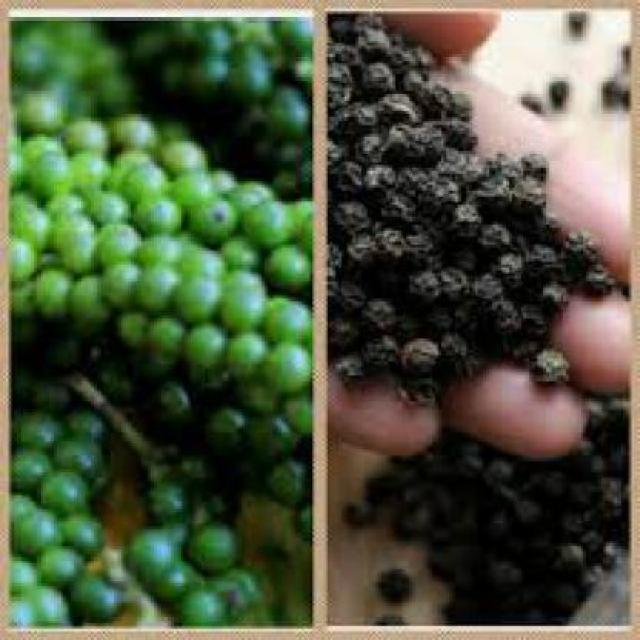UNRIPE: (8, 108, 305, 399)
